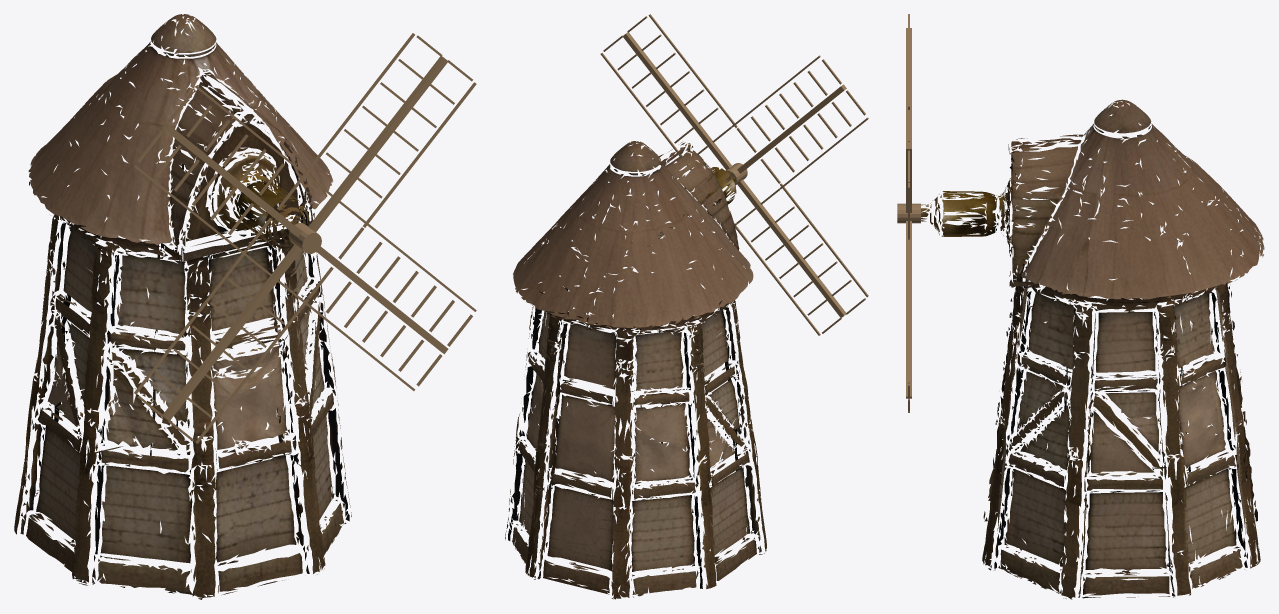
The model's file is windmill_stigsby.glb.
3 views of the same model, side by side, from view 1: azimuth 30°, elevation 25°; view 2: azimuth 150°, elevation 25°; view 3: azimuth 270°, elevation 25° (orthographic). The views are drawn at different scales.
Visible parts, largest first — view 1: WindmillTower, PART_sails; view 2: WindmillTower, PART_sails; view 3: WindmillTower, PART_sails.
Boxes of the visible parts, x1,y1,x2,y2 form: WindmillTower: (14,14,351,599); PART_sails: (134,33,476,443); WindmillTower: (505,141,766,599); PART_sails: (600,14,868,335); WindmillTower: (921,99,1264,599); PART_sails: (897,14,920,412).
Size of the model in its own units: 15.3 by 24.06 by 16.53.
2 materials, 1 textured.
